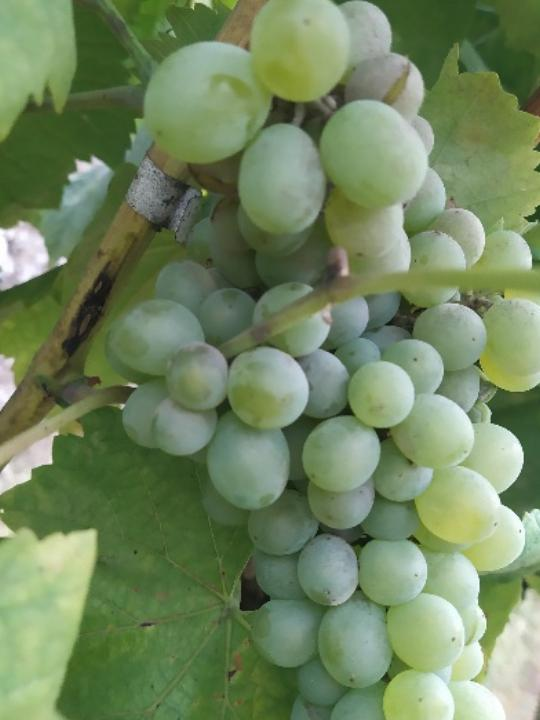grape: (111, 0, 540, 720)
